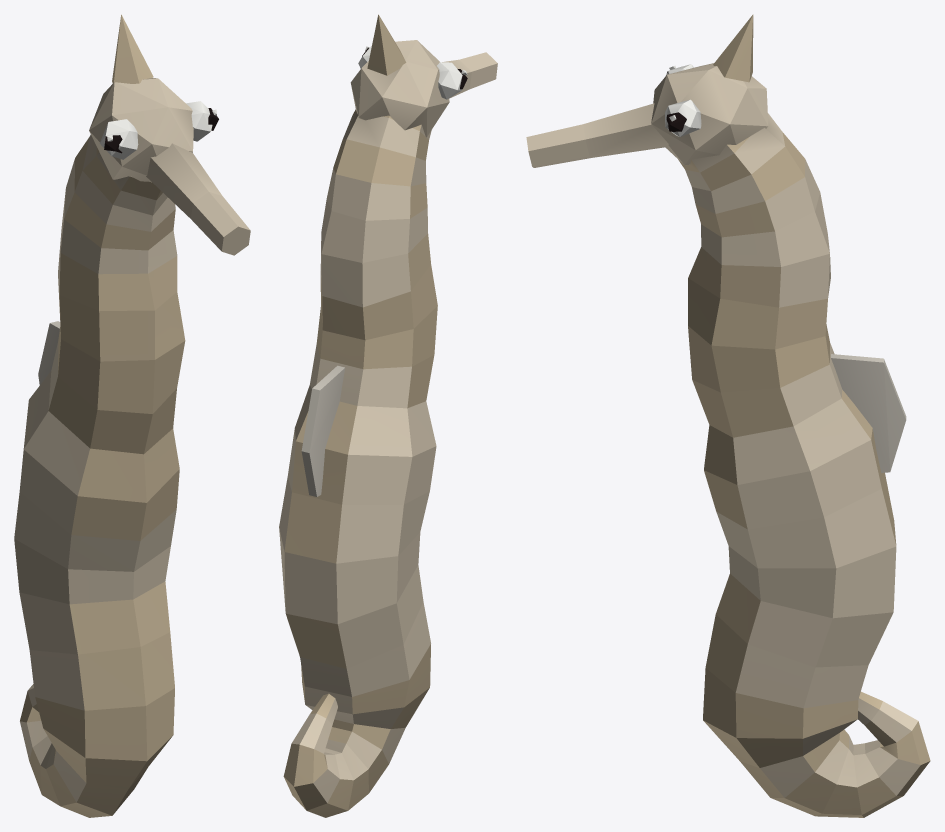
File: seahorse.glb
3 renders of one model, left to right at view 1: azimuth 30°, elevation 25°; view 2: azimuth 150°, elevation 25°; view 3: azimuth 270°, elevation 25°, orthographic. The views are drawn at different scales.
Parts seen in each view (by area): view 1: base, fin_m; view 2: base, fin_m; view 3: base, fin_m.
Part boxes in pixels (<box>): base: <box>14,14,250,817</box>; fin_m: <box>38,321,60,385</box>; base: <box>279,14,497,817</box>; fin_m: <box>301,365,345,496</box>; base: <box>526,14,930,817</box>; fin_m: <box>831,354,906,472</box>.
Size of the model in its own units: 0.0464 by 0.2784 by 0.1268.
